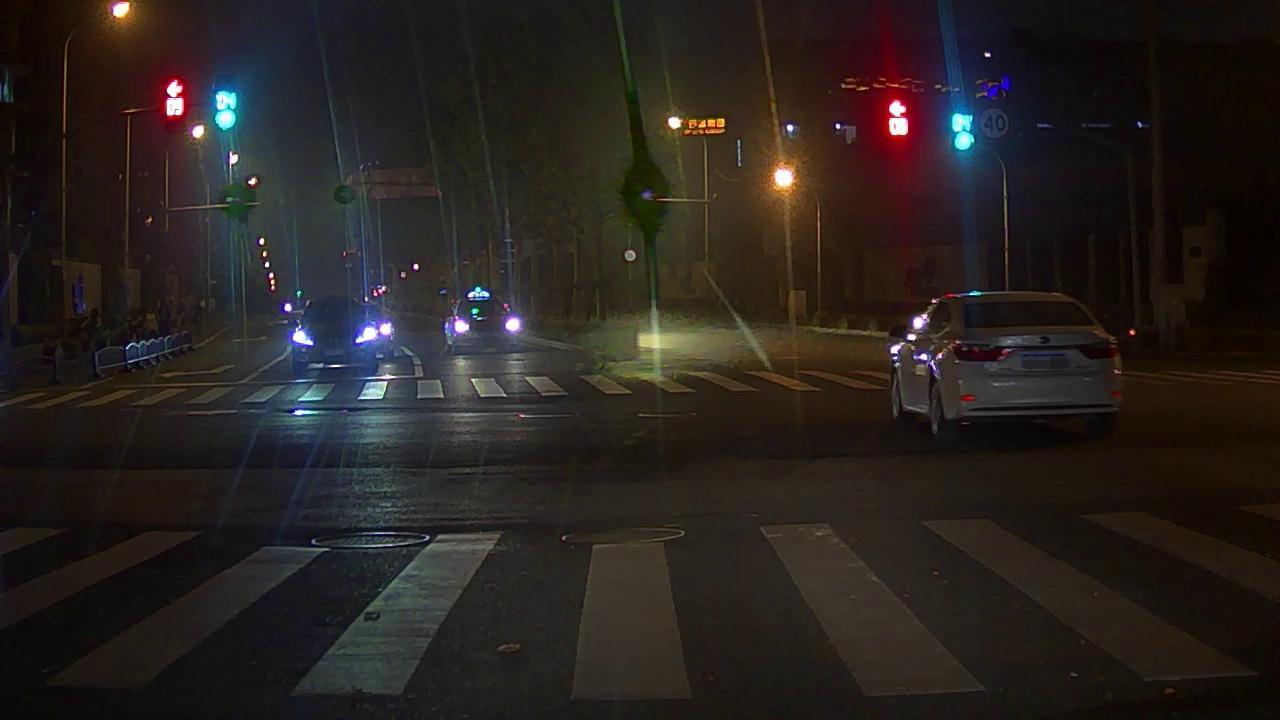traffic_light: (215, 78, 237, 135), (887, 99, 911, 151), (952, 96, 972, 153), (166, 78, 183, 130)
